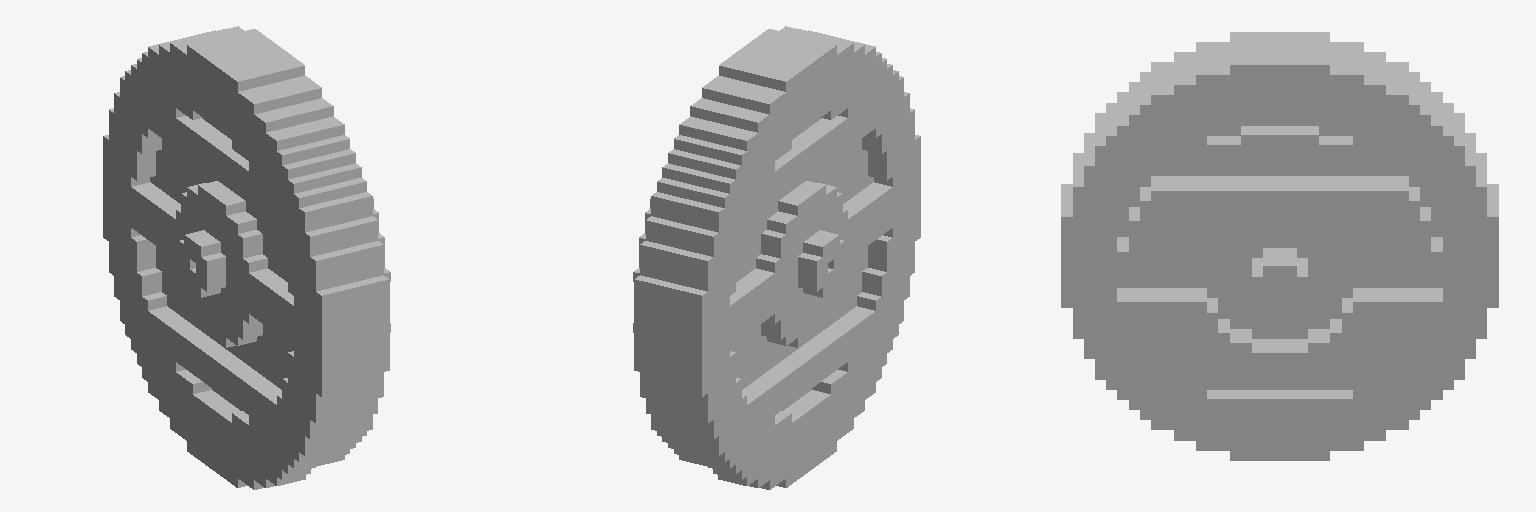
The model's file is Voxel Shield.obj.
3 views of the same model, side by side, from view 1: azimuth 30°, elevation 25°; view 2: azimuth 150°, elevation 25°; view 3: azimuth 270°, elevation 25° (orthographic).
Visible parts, largest first — view 1: object 1; view 2: object 1; view 3: object 1.
Boxes of the visible parts, x1=… form: object 1: x1=103, y1=26, x2=390, y2=489; object 1: x1=633, y1=26, x2=920, y2=489; object 1: x1=1061, y1=32, x2=1498, y2=460.
Size of the model in its own units: 1.3 by 4 by 3.9.